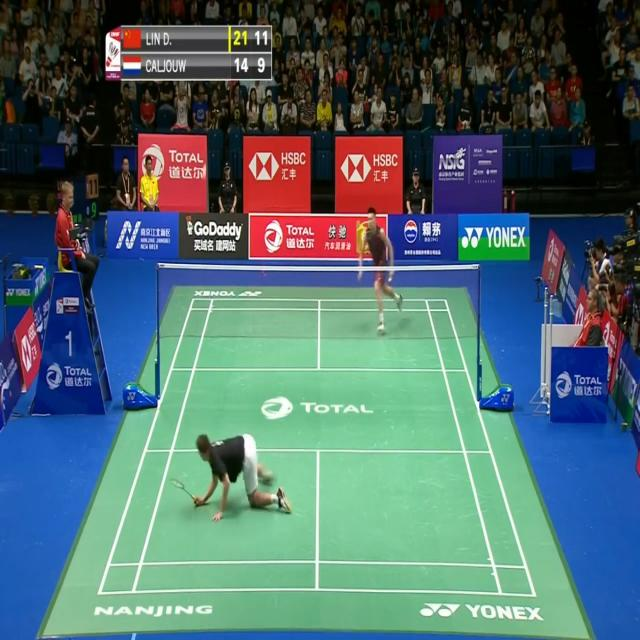Player1: (169, 423, 293, 518)
Player2: (356, 204, 414, 342)
